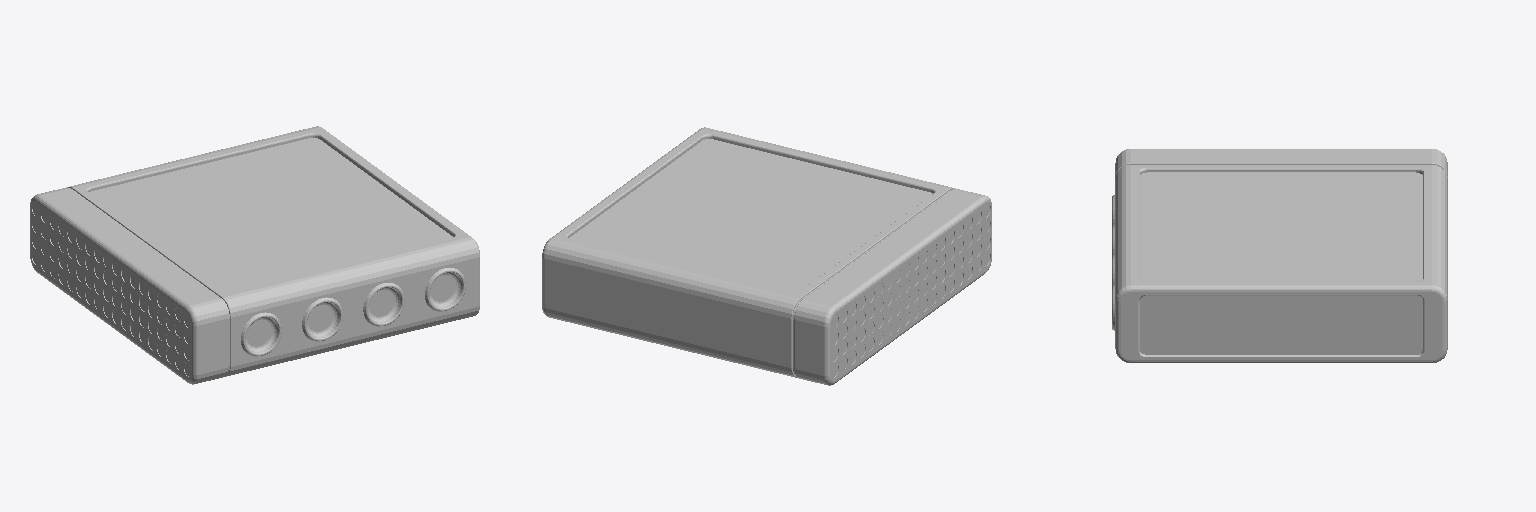
File: Printer.obj
3 renders of one model, left to right at view 1: azimuth 30°, elevation 25°; view 2: azimuth 150°, elevation 25°; view 3: azimuth 270°, elevation 25°, orthographic.
Visible parts, largest first — view 1: Circle; view 2: Circle; view 3: Circle.
Boxes of the visible parts, x1,y1,x2,y2 form: Circle: [30, 126, 479, 384]; Circle: [542, 127, 991, 385]; Circle: [1112, 149, 1447, 362].
Size of the model in its own units: 2.14 by 0.553 by 2.16.